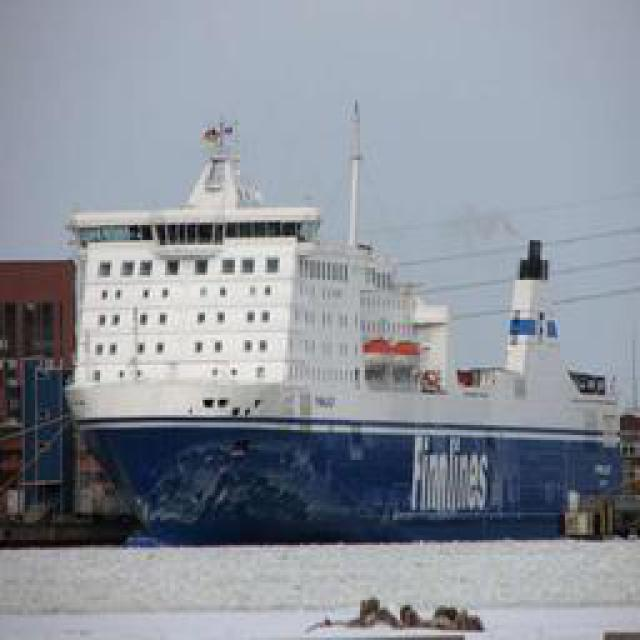Ship: (65, 97, 630, 550)
